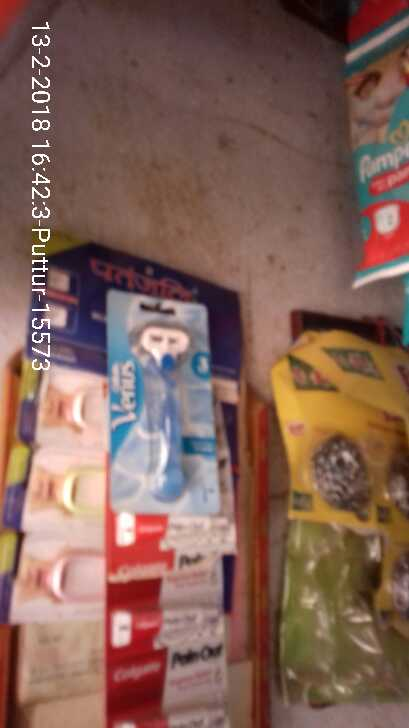venus: (106, 290, 228, 512)
